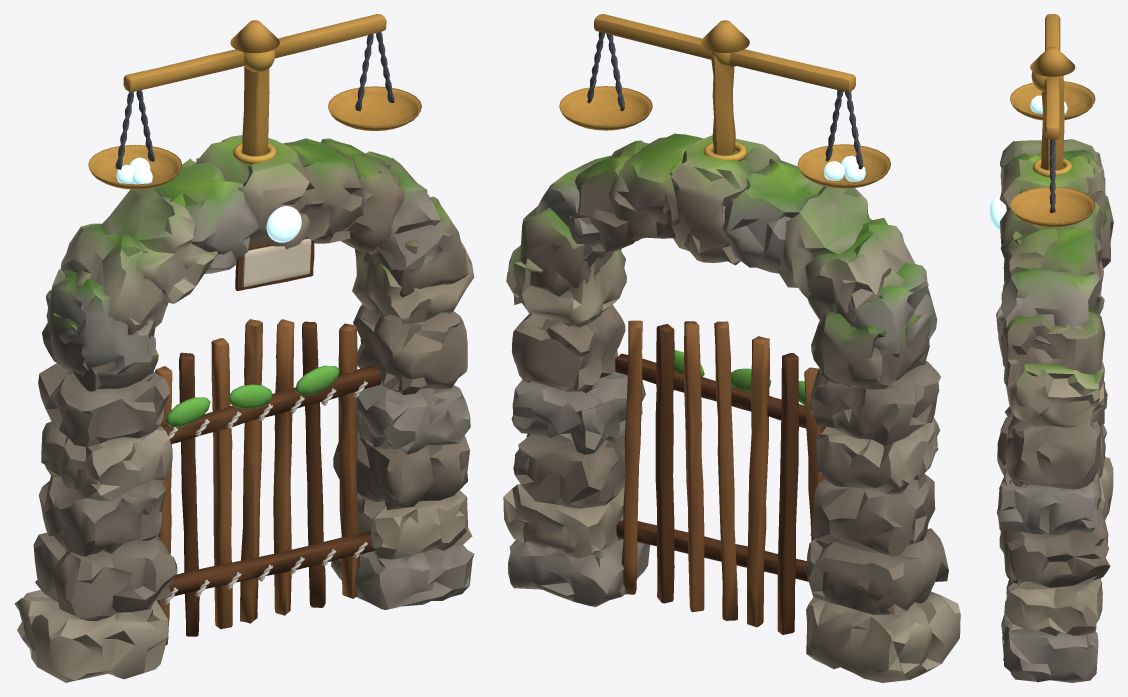
The model's file is int_pebble_gate.glb.
3 views of the same model, side by side, from view 1: azimuth 30°, elevation 25°; view 2: azimuth 150°, elevation 25°; view 3: azimuth 270°, elevation 25° (orthographic). The views are drawn at different scales.
Visible parts, largest first — view 1: int_pebble_gate, gate_bars, scale_beam, counter_plaque; view 2: int_pebble_gate, gate_bars, scale_beam; view 3: int_pebble_gate, scale_beam.
Boxes of the visible parts, bbox=[...] form: int_pebble_gate: bbox=[15, 20, 474, 682]; gate_bars: bbox=[155, 319, 381, 645]; scale_beam: bbox=[88, 14, 421, 189]; counter_plaque: bbox=[235, 237, 314, 290]; int_pebble_gate: bbox=[503, 20, 960, 682]; gate_bars: bbox=[615, 320, 824, 634]; scale_beam: bbox=[559, 14, 890, 188]; int_pebble_gate: bbox=[989, 47, 1113, 682]; scale_beam: bbox=[1010, 14, 1095, 227].
Bounding box in the file's own units: 8.92 × 12.07 × 2.47.
